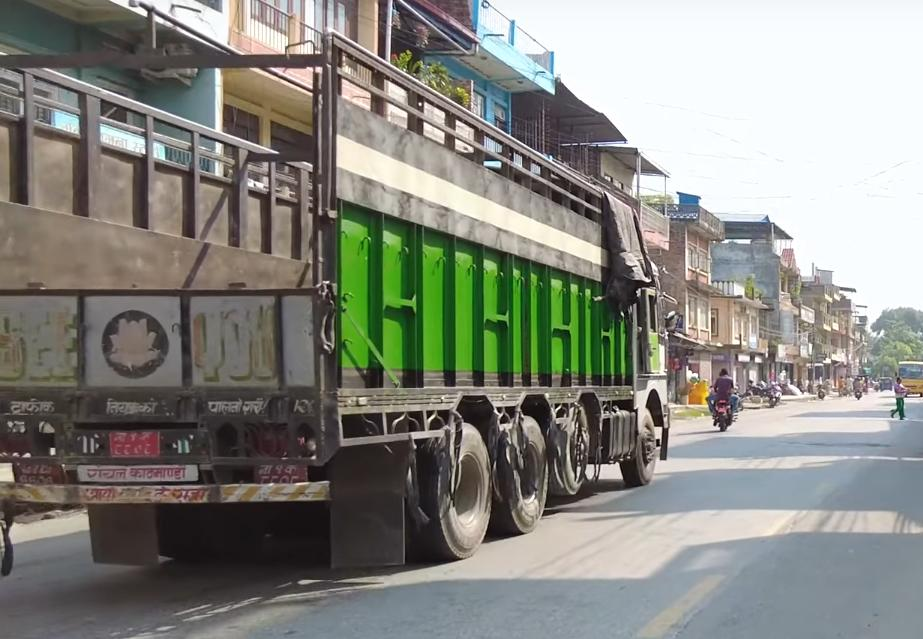school_bus: (895, 358, 923, 402)
truck: (0, 15, 673, 575)
